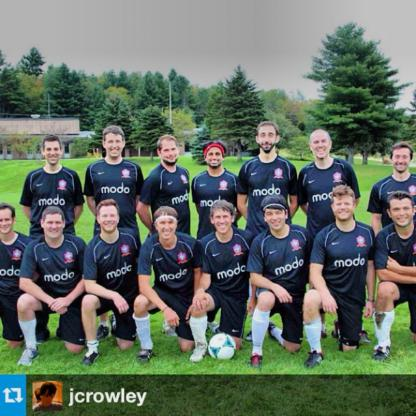Ball: (209, 333, 236, 360)
